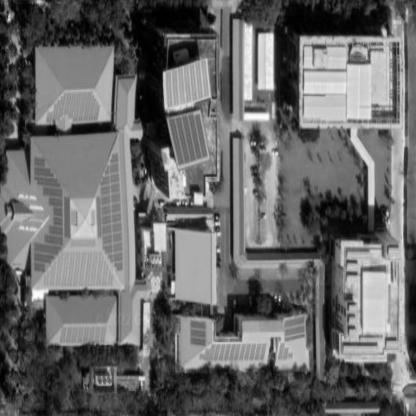solar-pv-panel: (34, 159, 63, 271), (96, 154, 123, 272), (44, 252, 113, 286), (168, 111, 208, 166), (166, 59, 210, 105), (47, 92, 100, 122), (199, 343, 267, 360), (60, 327, 107, 343), (284, 316, 305, 341), (190, 321, 205, 345), (278, 342, 292, 360)
